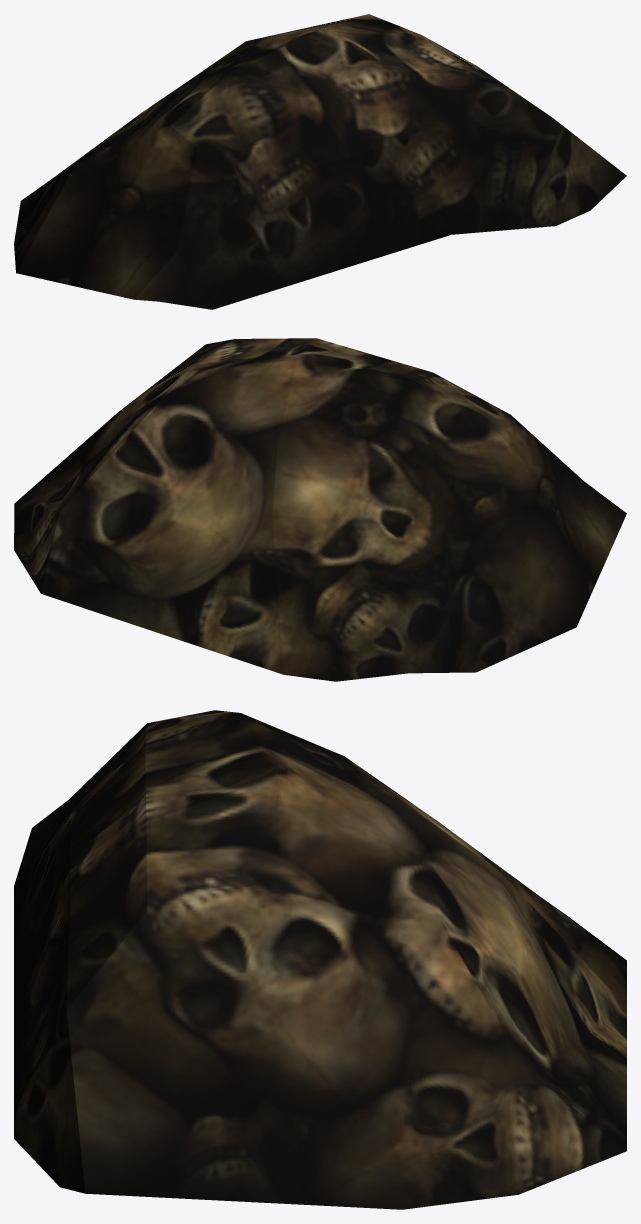
The model's file is BonePile.fbx.
3 renders of one model, top to bottom at view 1: azimuth 30°, elevation 25°; view 2: azimuth 150°, elevation 25°; view 3: azimuth 270°, elevation 25°, orthographic. The views are drawn at different scales.
Parts seen in each view (by area): view 1: Plane; view 2: Plane; view 3: Plane.
Part boxes in pixels (<box>): Plane: <box>14,14,626,309</box>; Plane: <box>14,338,626,681</box>; Plane: <box>14,710,626,1209</box>.
Size of the model in its own units: 60.45 by 22 by 40.01.
